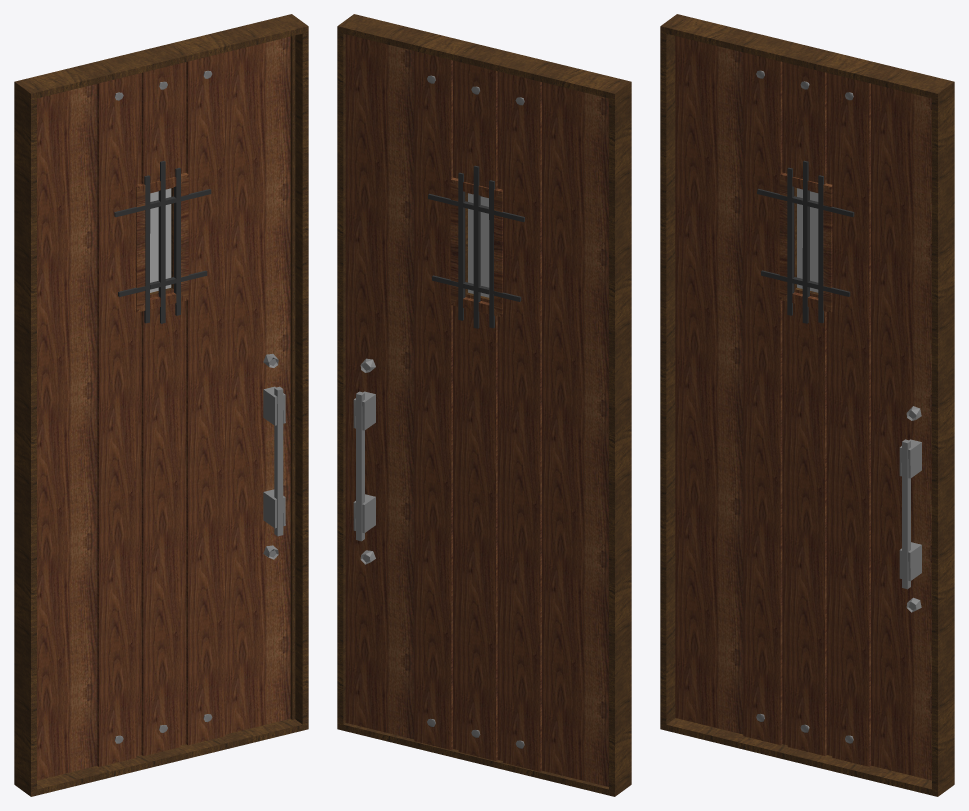
Rendered from SM_Door_11.fbx.
The picture shows the model from 3 angles, left to right: view 1: azimuth 30°, elevation 25°; view 2: azimuth 150°, elevation 25°; view 3: azimuth 330°, elevation 25°; orthographic projection.
Parts seen in each view (by area): view 1: SM_Door_10_door, SM_Door_10_frame; view 2: SM_Door_10_door, SM_Door_10_frame; view 3: SM_Door_10_door, SM_Door_10_frame.
Boxes of the visible parts, x1=… form: SM_Door_10_door: x1=37, y1=36, x2=290, y2=780; SM_Door_10_frame: x1=14, y1=14, x2=308, y2=796; SM_Door_10_door: x1=345, y1=34, x2=608, y2=786; SM_Door_10_frame: x1=337, y1=14, x2=631, y2=796; SM_Door_10_door: x1=675, y1=36, x2=931, y2=780; SM_Door_10_frame: x1=660, y1=14, x2=954, y2=796.
Size of the model in its own units: 0.962 by 2.33 by 0.17.
5 materials, 2 textured.
